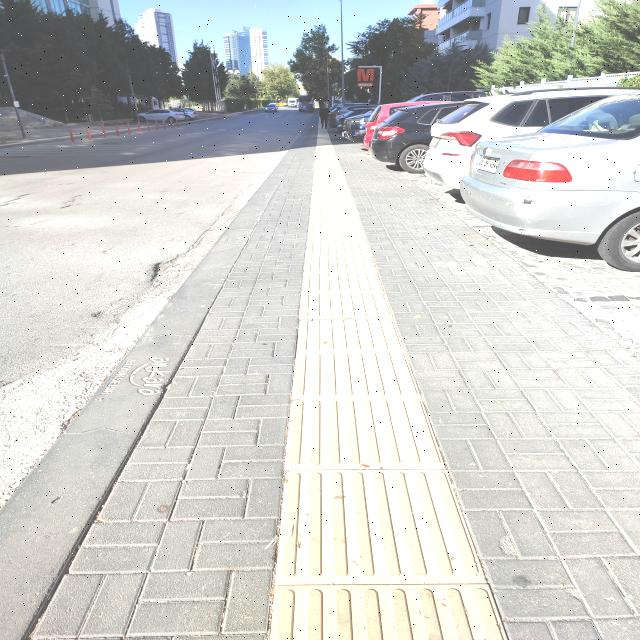sidewalk: (3, 126, 637, 640)
